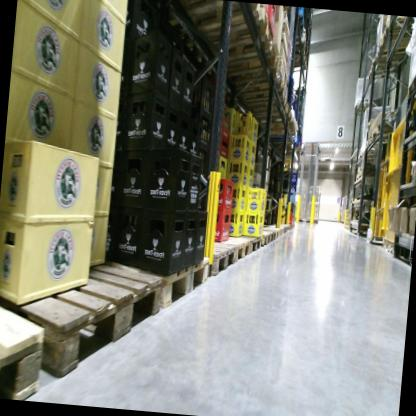pallet: (0, 244, 165, 387), (174, 0, 276, 58), (0, 291, 47, 399), (148, 248, 213, 311), (176, 0, 261, 40), (219, 42, 282, 86), (239, 70, 288, 105), (366, 49, 416, 83), (205, 241, 238, 280), (376, 32, 416, 62), (245, 95, 289, 119), (257, 118, 300, 142), (381, 16, 415, 45), (220, 234, 252, 263), (254, 107, 294, 129), (266, 138, 302, 160), (352, 97, 386, 119), (358, 146, 386, 167), (371, 120, 397, 142), (295, 12, 311, 46), (289, 54, 312, 72), (364, 138, 395, 151), (247, 234, 263, 258), (292, 38, 308, 58), (406, 68, 416, 98), (259, 227, 277, 241), (265, 226, 281, 241), (270, 225, 285, 236), (261, 233, 272, 247), (344, 224, 351, 231), (344, 209, 352, 215), (283, 225, 288, 234), (344, 219, 351, 225), (346, 216, 351, 221), (345, 214, 351, 217)
